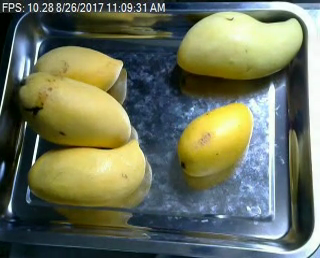Mango: (174, 8, 304, 78), (14, 72, 130, 146), (28, 143, 147, 203), (176, 103, 253, 176), (31, 44, 124, 92)
